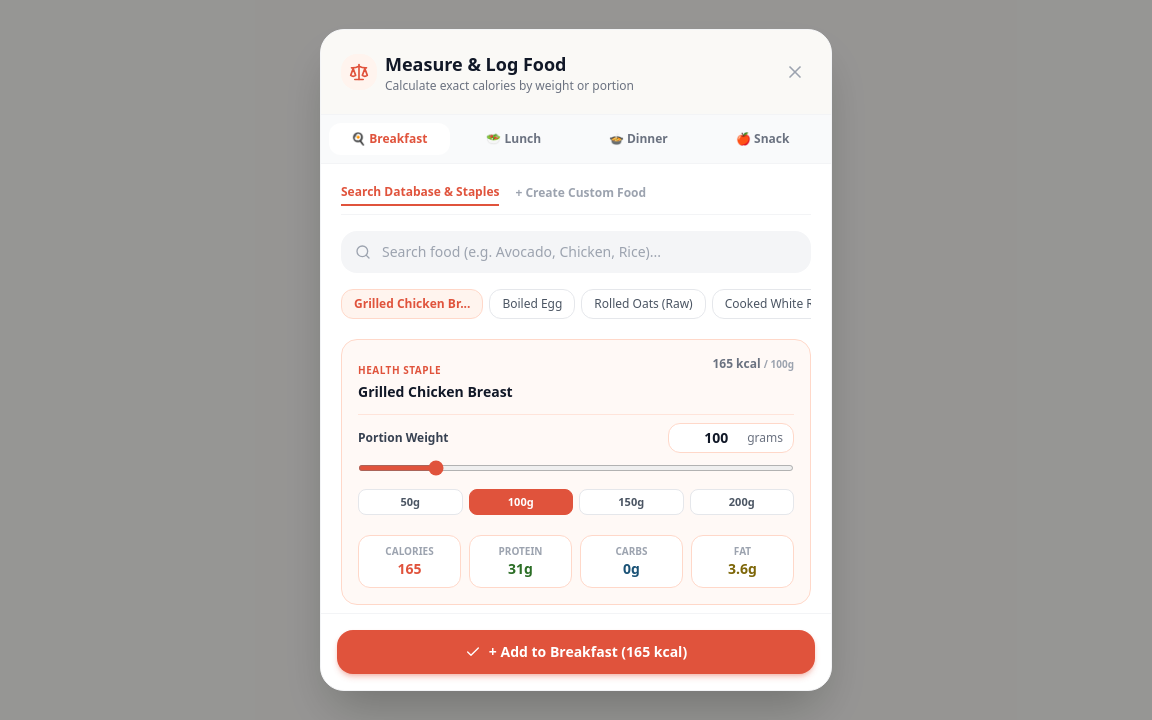
FoodMeasurerModal Component › allows quick preset portion selection like 100g or 150g
The width and height of the screenshot is (1152, 720).
Click the button "150g" at (631, 502), box [579,489,684,515]
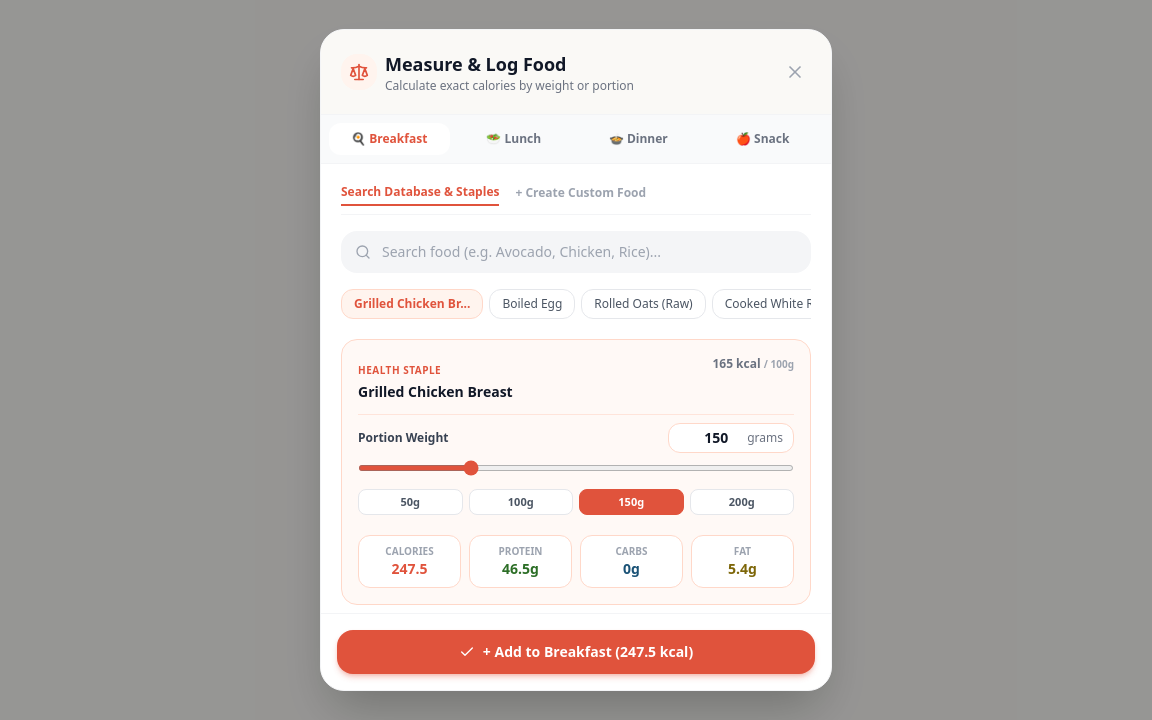
expect the number field named "Gram Weight" holds "150": met, box [679,428,743,448]
